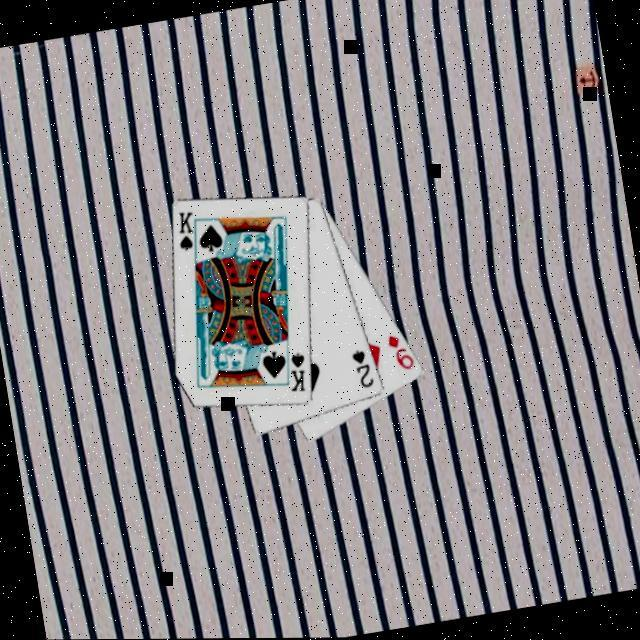2S: (347, 346, 377, 394)
9D: (382, 330, 418, 376)
KS: (170, 208, 205, 260), (282, 350, 313, 398)
